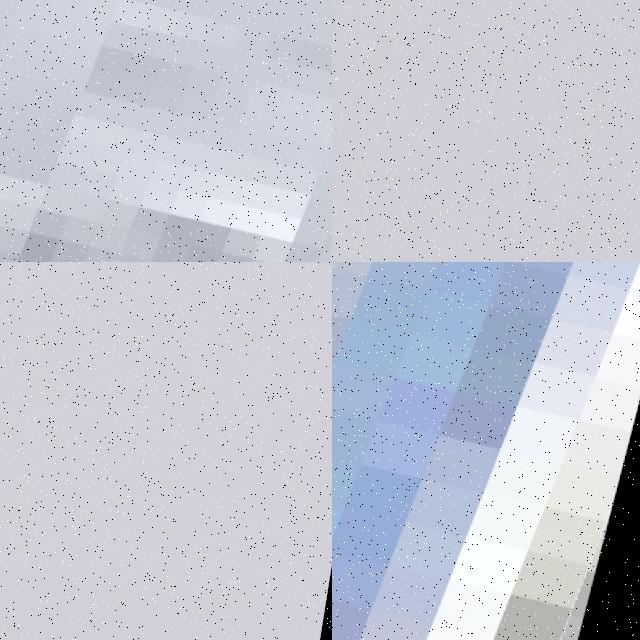0: (0, 0, 332, 262)
drone: (332, 262, 640, 640)
